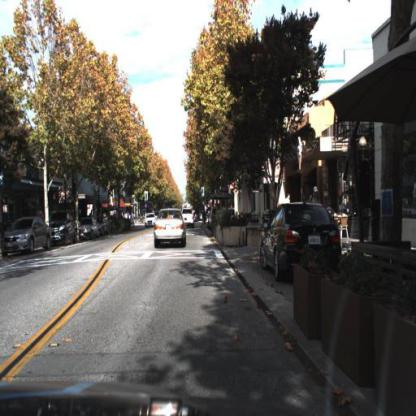car: (257, 201, 341, 284), (4, 216, 55, 257), (151, 205, 191, 251), (52, 208, 78, 246), (78, 216, 102, 243), (181, 208, 196, 229)
pedestrian: (310, 183, 324, 205), (285, 191, 294, 209)
